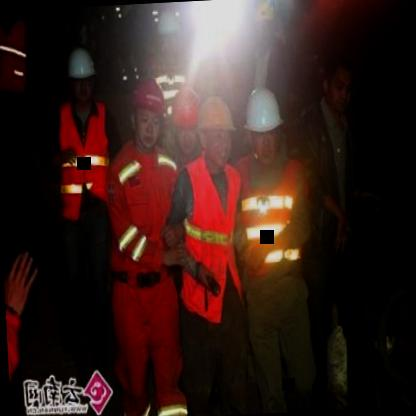head: (316, 50, 361, 116)
helmet: (240, 80, 291, 164), (120, 72, 174, 150), (164, 82, 206, 164), (194, 94, 238, 172), (62, 43, 100, 112)
